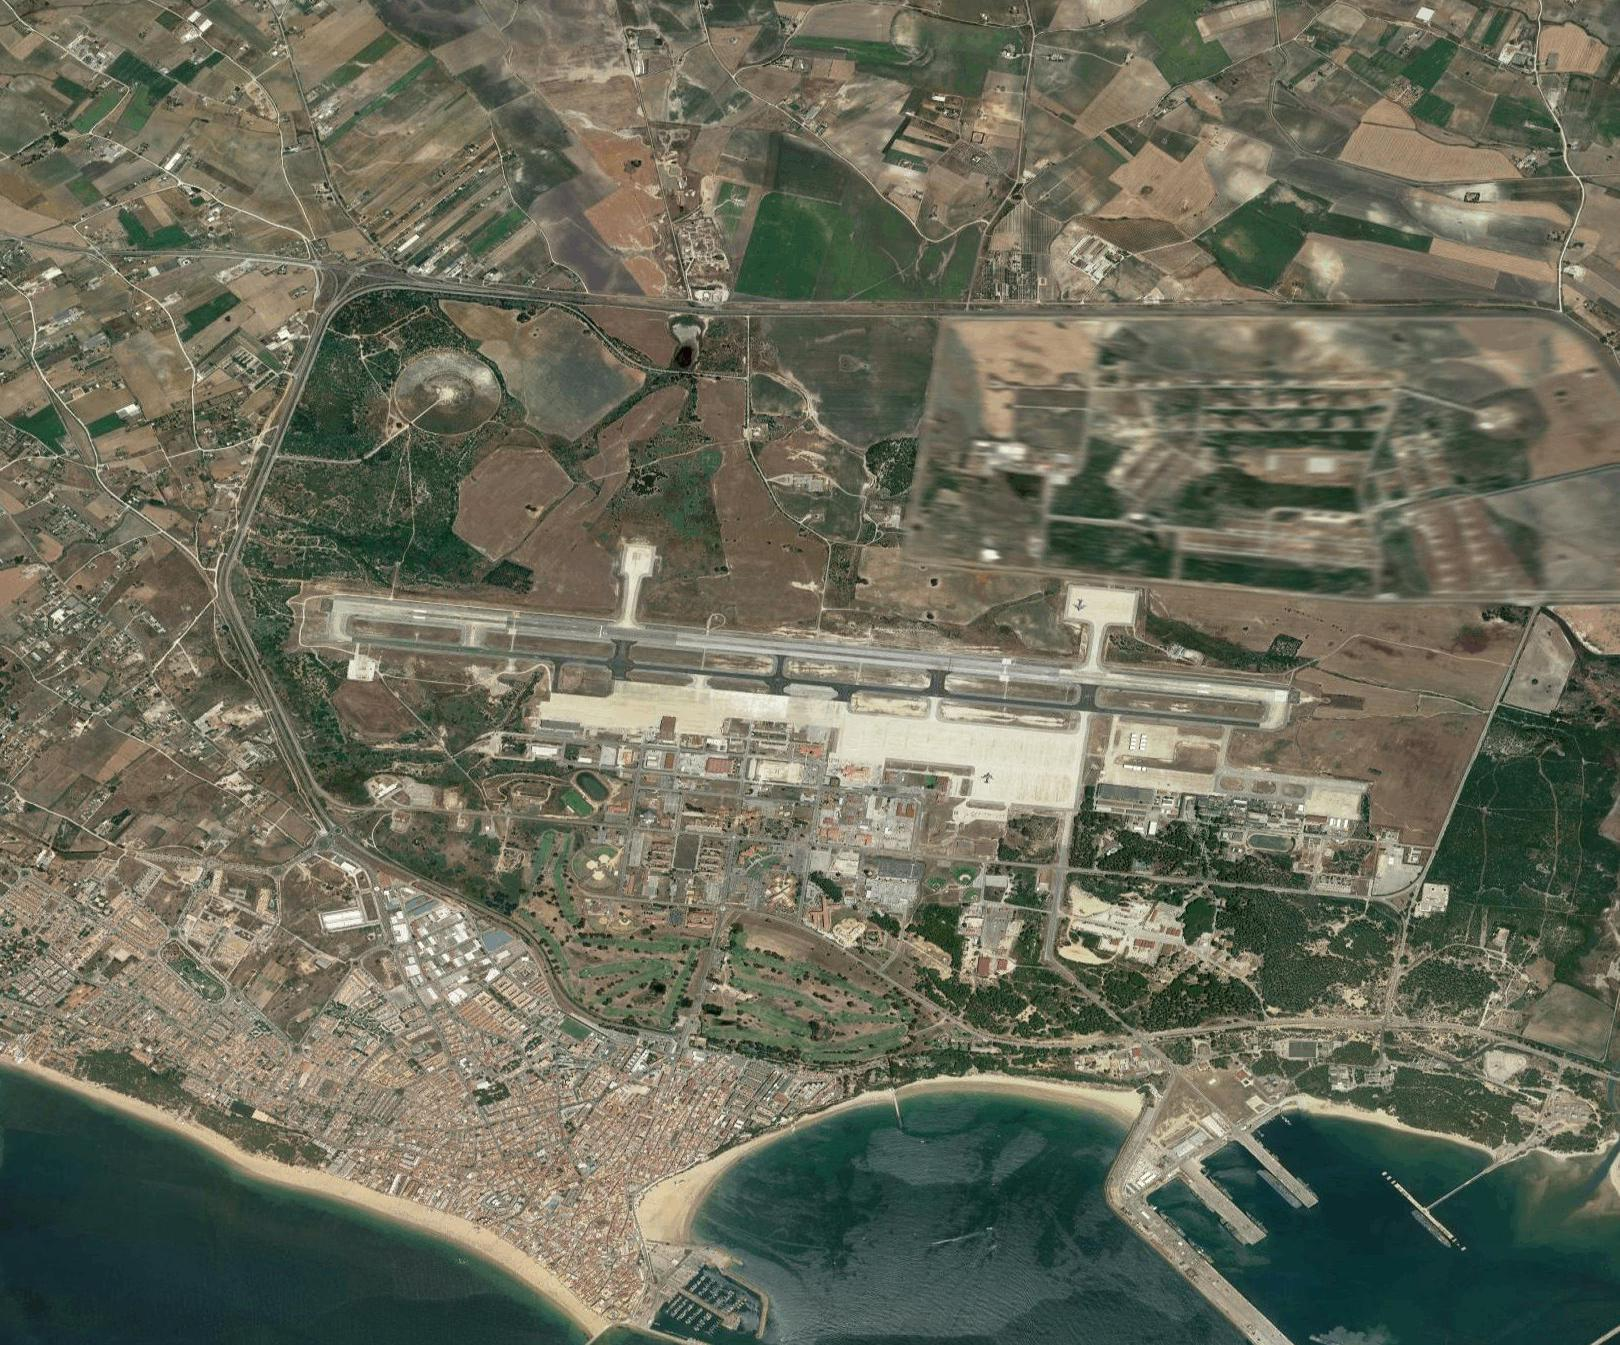airport: (272, 530, 1402, 941)
harbor: (1086, 1093, 1372, 1345), (603, 1233, 807, 1345)
motorway: (230, 636, 309, 795), (262, 303, 326, 471), (206, 468, 268, 638), (300, 794, 406, 876), (405, 868, 509, 928), (507, 923, 566, 997)
